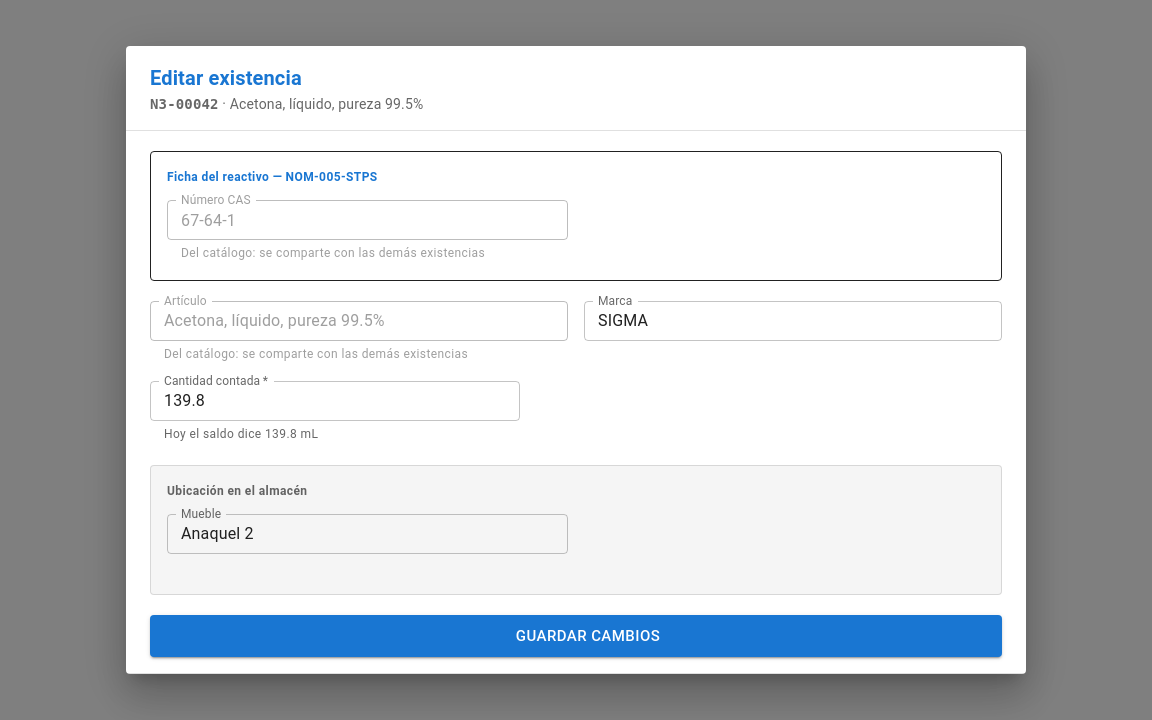
Scenario: DialogoEditarExistencia › cambiar la cantidad anuncia el ajuste y exige el motivo
Replace the text in the number field labelled "Cantidad contada *" with "108" at (335, 401), box [150,381,520,421]
(page scrolled)
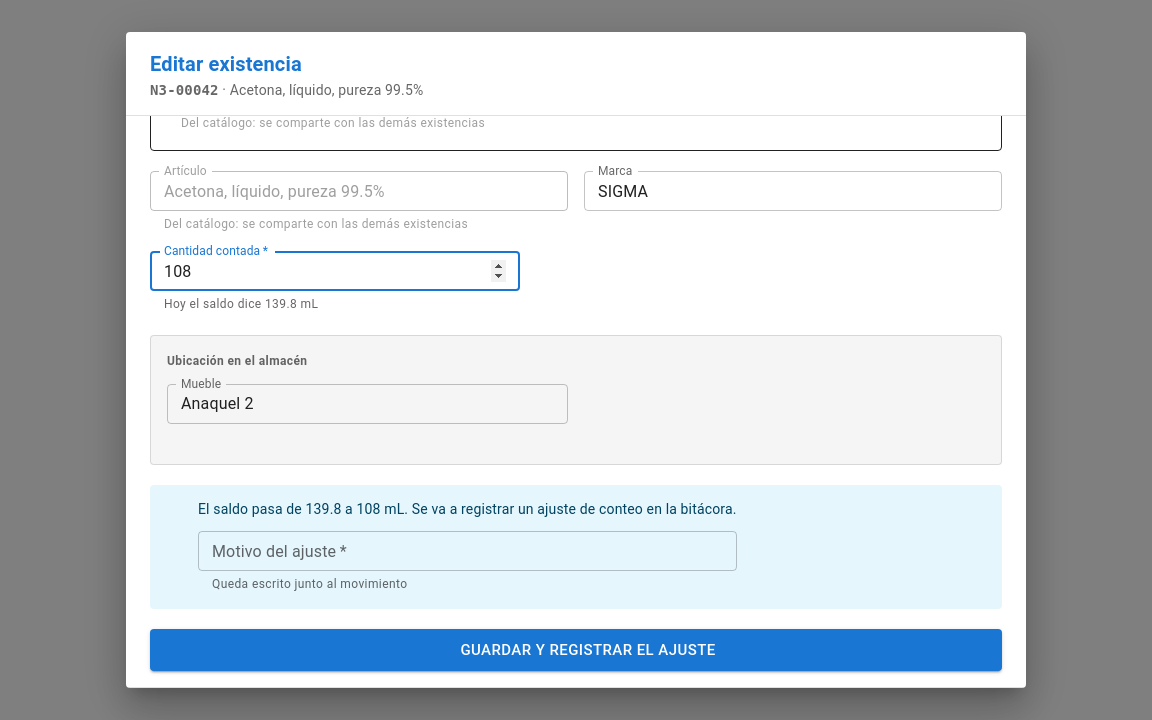
Expected: the field labelled "Motivo del ajuste *" is shown, [198,531,736,571]
Expected: the text "ajuste de conteo" is shown, [404,501,736,517]
Click the button "Guardar y registrar el ajuste".
click(576, 650)  # box [150,629,1002,671]
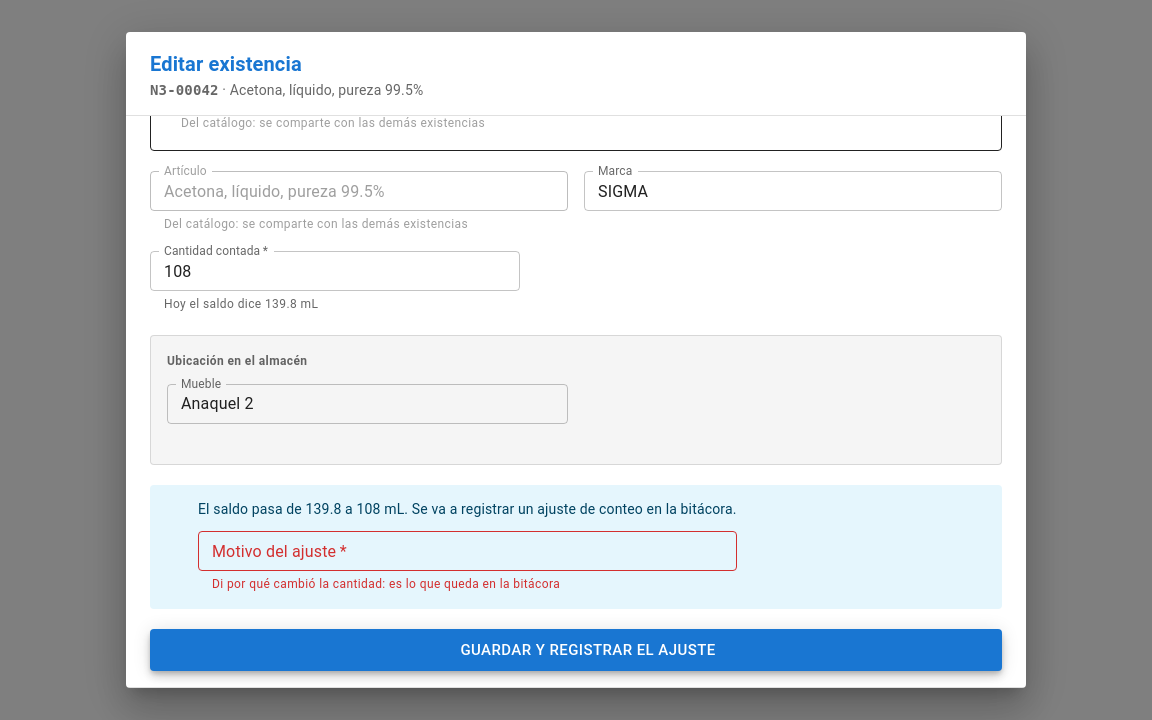
Expected: the text "es lo que queda en la" is shown, [212,577,560,591]
